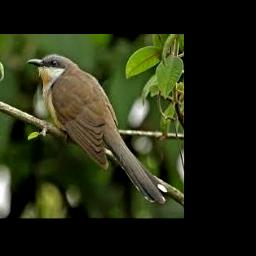Cuckoo: (26, 53, 167, 203)
